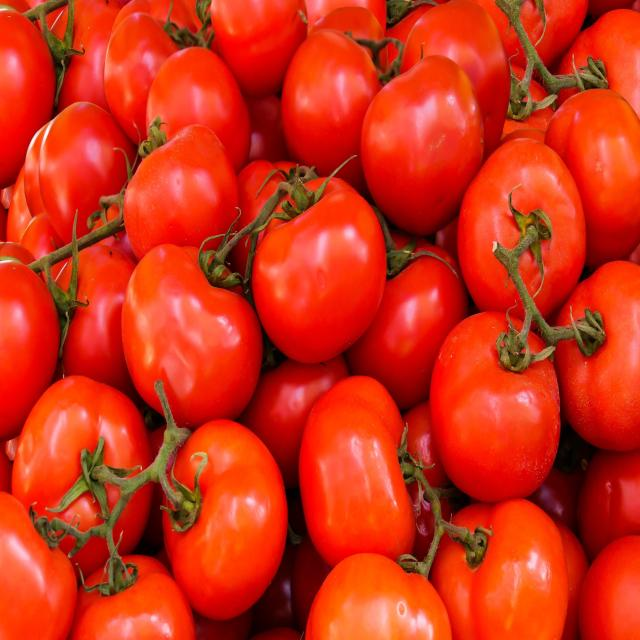Tomato: (11, 369, 157, 566), (437, 305, 572, 517), (125, 230, 269, 426), (264, 159, 392, 350), (470, 143, 599, 310)
